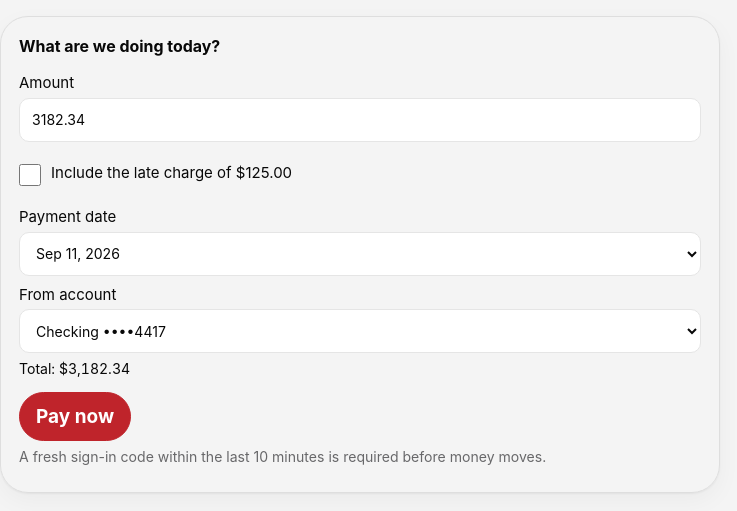
Test: PaymentCard › keeps money as cents strings; masks accounts; totals with bigint
Later steps or results of the test are not shown.
Check: the text with test id "payment-total" shows "$3,182.34", box [59,360,130,377]
What coordinates should you click on to do the following:
click the checkbox
I would click on:
 (30, 175)
Its box is [19,164,41,186].
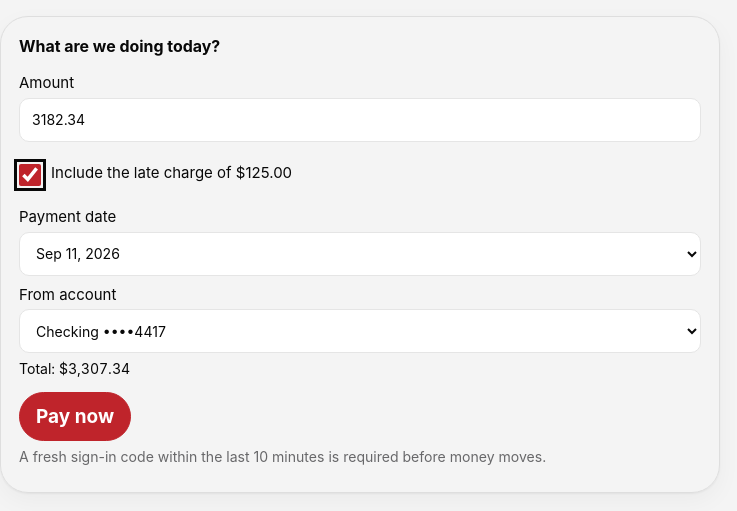
Check: the text with test id "payment-total" shows "$3,307.34", box [59,360,130,377]
